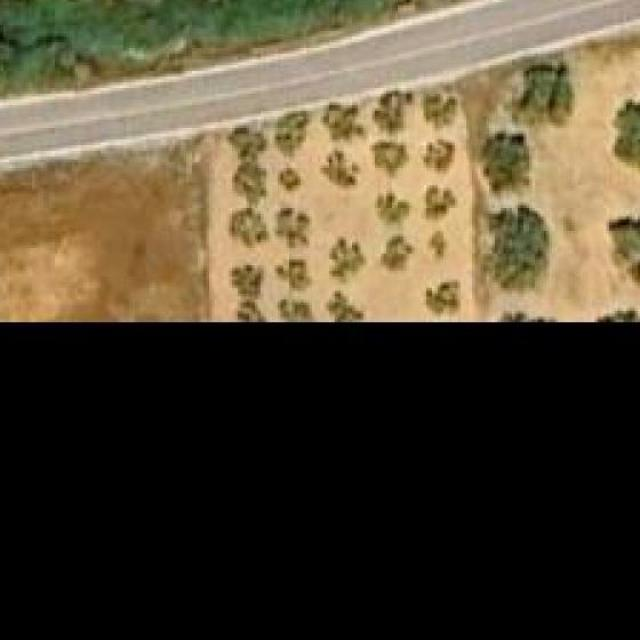Tree: (497, 52, 572, 132), (480, 206, 549, 291), (480, 131, 531, 200), (225, 199, 269, 252), (609, 213, 640, 286), (615, 99, 640, 174), (328, 237, 366, 286), (226, 120, 269, 162), (272, 109, 312, 154), (375, 94, 415, 134), (324, 97, 364, 137), (423, 91, 466, 126), (228, 256, 266, 295), (320, 149, 358, 186), (420, 185, 457, 223), (236, 166, 268, 209), (275, 251, 312, 287), (426, 280, 461, 318), (423, 140, 455, 177), (276, 291, 316, 320), (375, 143, 409, 177), (282, 206, 312, 244), (380, 236, 412, 271), (326, 291, 363, 320), (377, 193, 409, 225), (232, 297, 266, 322), (276, 166, 303, 194)
